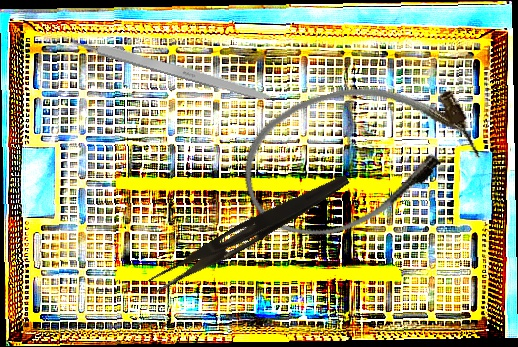Cannula: (225, 56, 491, 255)
Dressing Forceps: (147, 164, 352, 301)
Scalpel Handle: (69, 32, 278, 106)
